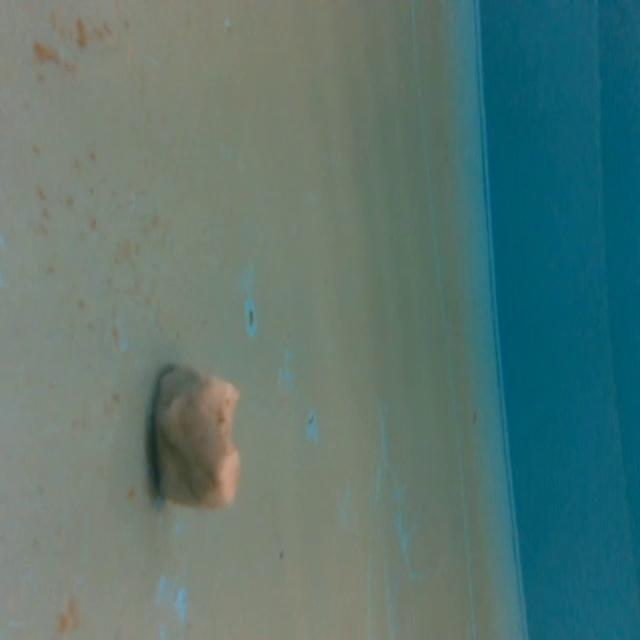rock: (150, 361, 247, 518)
